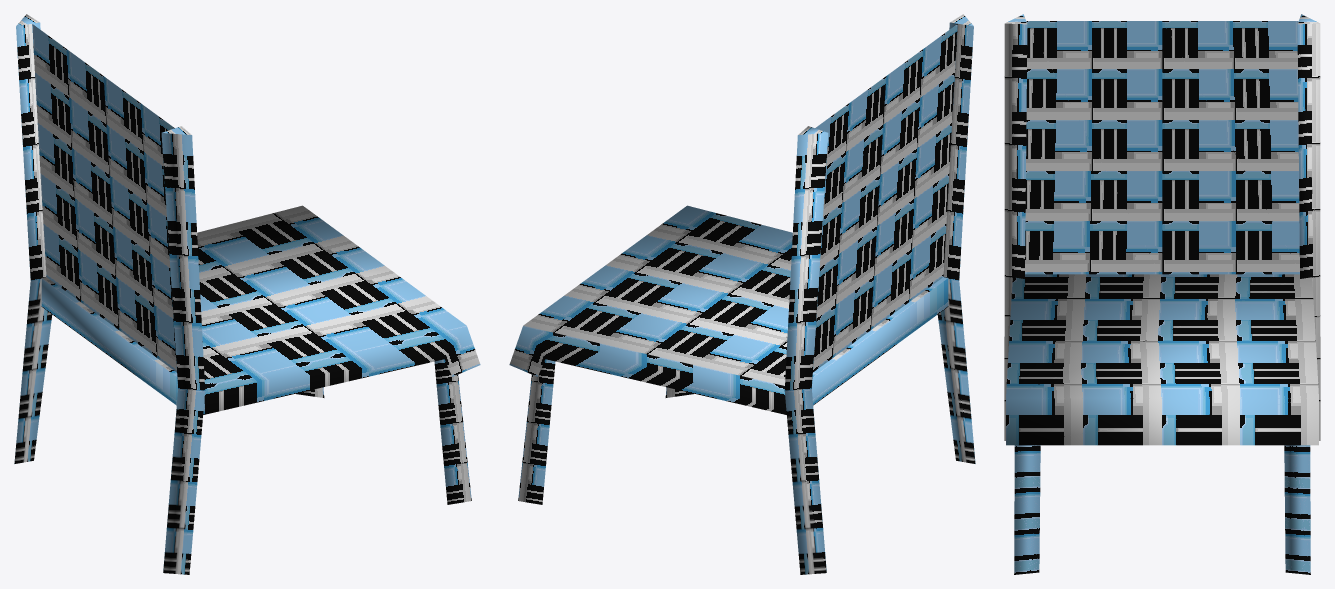
File: 3588kg_29_isu.gltf
The picture shows the model from 3 angles, left to right: view 1: azimuth 30°, elevation 25°; view 2: azimuth 150°, elevation 25°; view 3: azimuth 270°, elevation 25°; orthographic projection. The views are drawn at different scales.
Parts seen in each view (by area): view 1: 3588kg_29_isu; view 2: 3588kg_29_isu; view 3: 3588kg_29_isu.
Part boxes in pixels (bbox=[...]): 3588kg_29_isu: bbox=[14, 14, 480, 574]; 3588kg_29_isu: bbox=[509, 14, 975, 574]; 3588kg_29_isu: bbox=[1004, 14, 1320, 574].
Size of the model in its own units: 0.7886 by 1.07 by 0.7314.
1 material, 1 textured.
